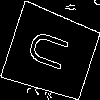U: (25, 27, 79, 76)
